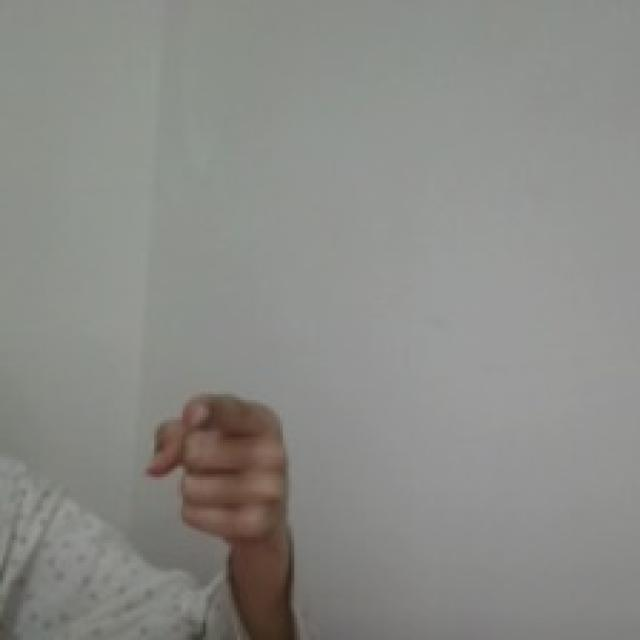you: (141, 382, 299, 549)
